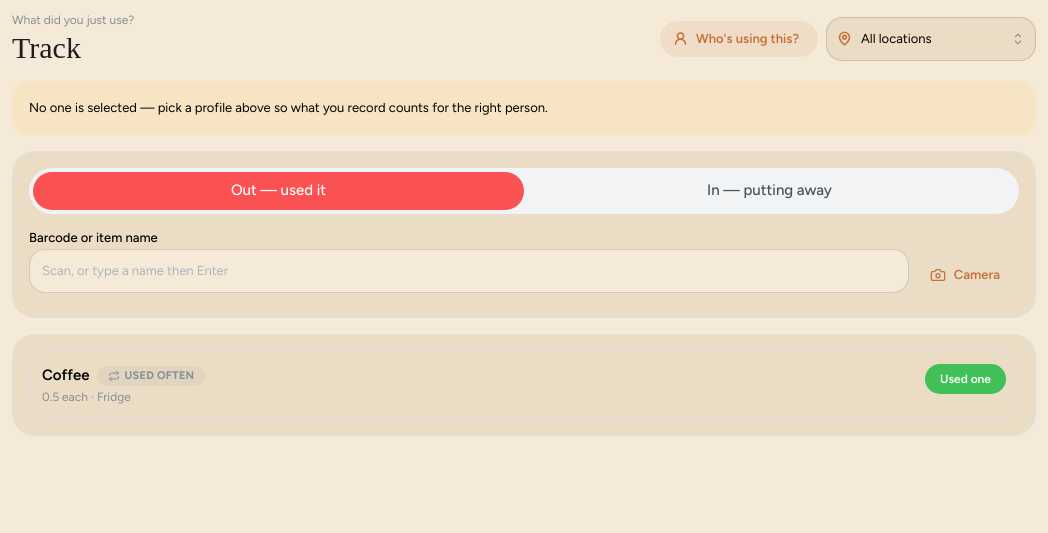
Scenario: TrackPage (unified tracking worklist) › offers undo on a lot-less 'recent' row too
Expected: the text "Coffee" is shown, [42,364,90,387]
Click the button "Used one" at (966, 379), box [925,364,1006,394]
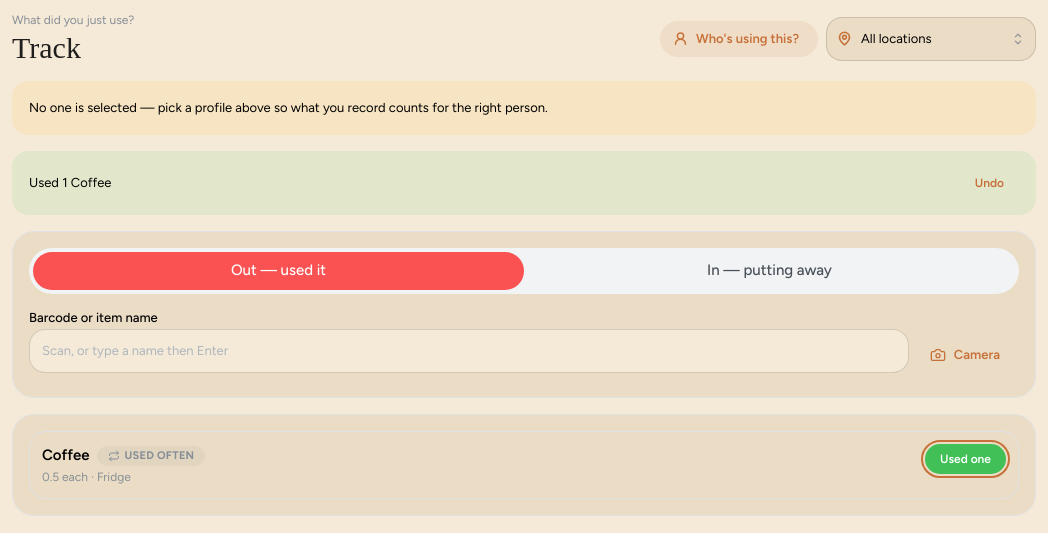
Result: the button "Undo" is shown at [960,168,1019,198]
